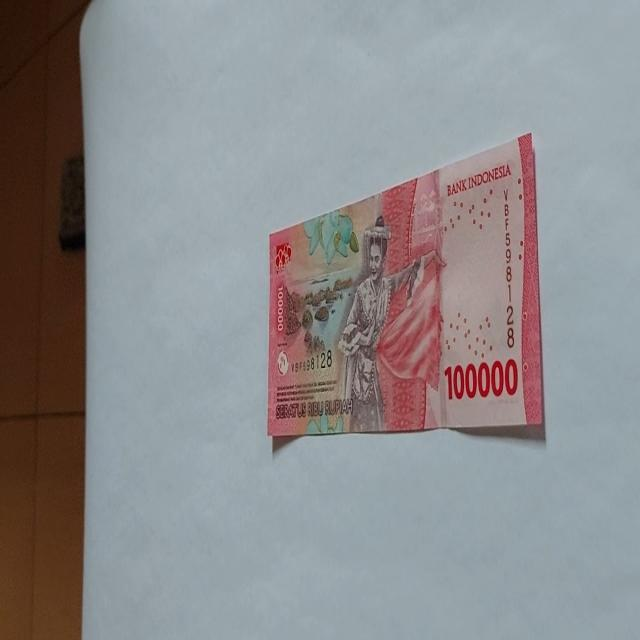seratus ribu rupiah: (266, 130, 545, 442), (336, 213, 425, 432)
